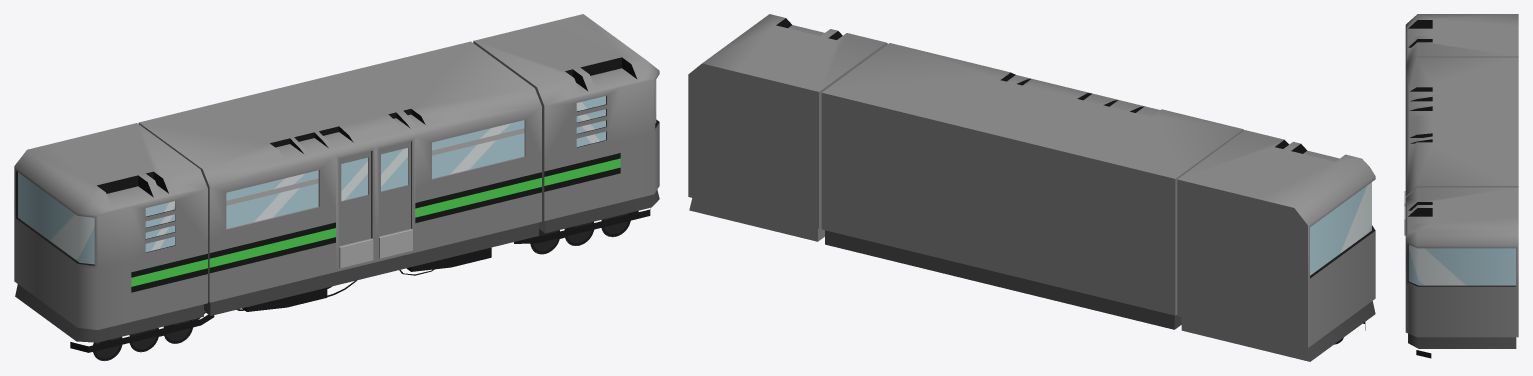
File: Metro 1.fbx
The picture shows the model from 3 angles, left to right: view 1: azimuth 30°, elevation 25°; view 2: azimuth 150°, elevation 25°; view 3: azimuth 270°, elevation 25°; orthographic projection. The views are drawn at different scales.
Parts seen in each view (by area): view 1: MetroBody, MetroHead, MetroTail; view 2: MetroBody, MetroHead, MetroTail; view 3: MetroTail, MetroBody, MetroHead.
Part boxes in pixels (x1=…): MetroBody: x1=138, y1=41, x2=541, y2=315; MetroHead: x1=14, y1=123, x2=214, y2=361; MetroTail: x1=473, y1=14, x2=659, y2=254; MetroBody: x1=821, y1=43, x2=1244, y2=329; MetroHead: x1=1177, y1=130, x2=1375, y2=361; MetroTail: x1=688, y1=14, x2=887, y2=241; MetroTail: x1=1405, y1=187, x2=1518, y2=358; MetroBody: x1=1404, y1=57, x2=1518, y2=235; MetroHead: x1=1405, y1=14, x2=1518, y2=66.
Size of the model in its own units: 202 by 950 by 275.
7 materials, 2 textured.
